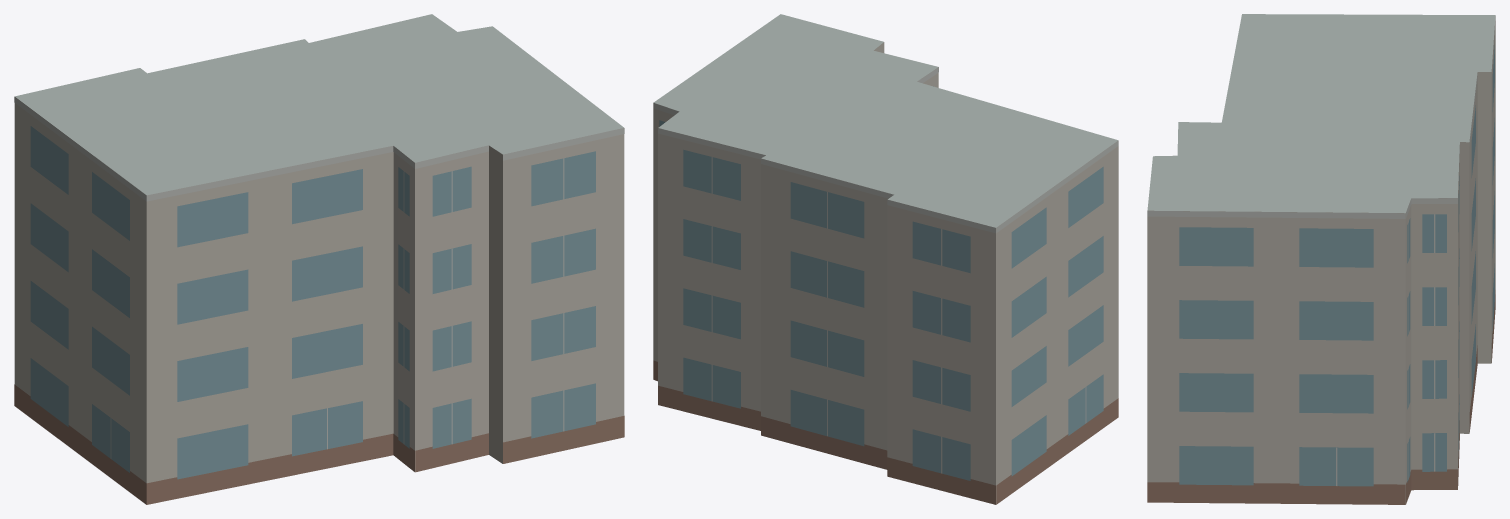
The model's file is survey-upis-32498950.glb.
The picture shows the model from 3 angles, left to right: view 1: azimuth 30°, elevation 25°; view 2: azimuth 150°, elevation 25°; view 3: azimuth 270°, elevation 25°; orthographic projection. The views are drawn at different scales.
Visible parts, largest first — view 1: survey-upis-32498950.tmp; view 2: survey-upis-32498950.tmp; view 3: survey-upis-32498950.tmp.
Part boxes in pixels (box(x1,y1,x2,y2)): survey-upis-32498950.tmp: box(14, 14, 624, 504); survey-upis-32498950.tmp: box(653, 14, 1118, 504); survey-upis-32498950.tmp: box(1147, 14, 1495, 504).
Size of the model in its own units: 17.87 by 12.2 by 13.2.
